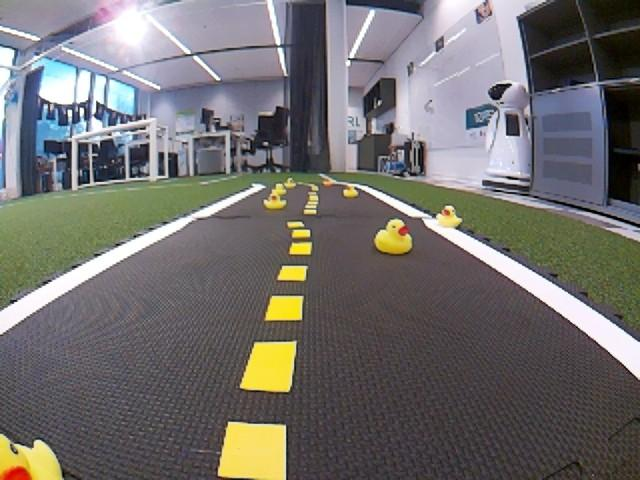Duckies: (2, 431, 62, 480), (373, 219, 412, 254), (437, 206, 461, 227), (264, 194, 286, 210), (343, 187, 358, 198), (271, 185, 286, 196), (283, 180, 294, 187), (310, 183, 319, 191), (324, 179, 333, 185)
